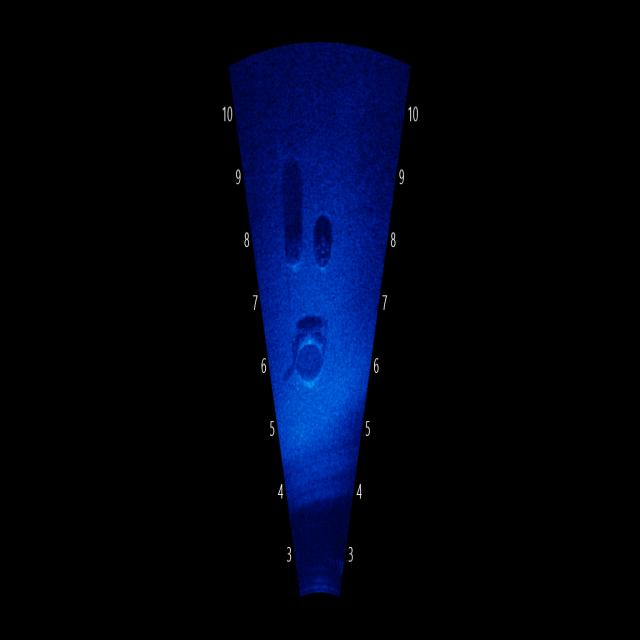circle: (292, 331, 329, 396), (312, 225, 334, 268)
